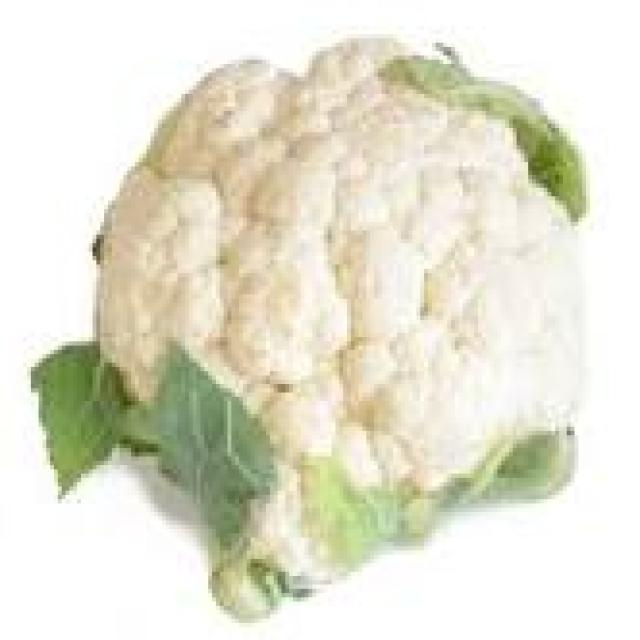cauliflower: (46, 21, 594, 598)
